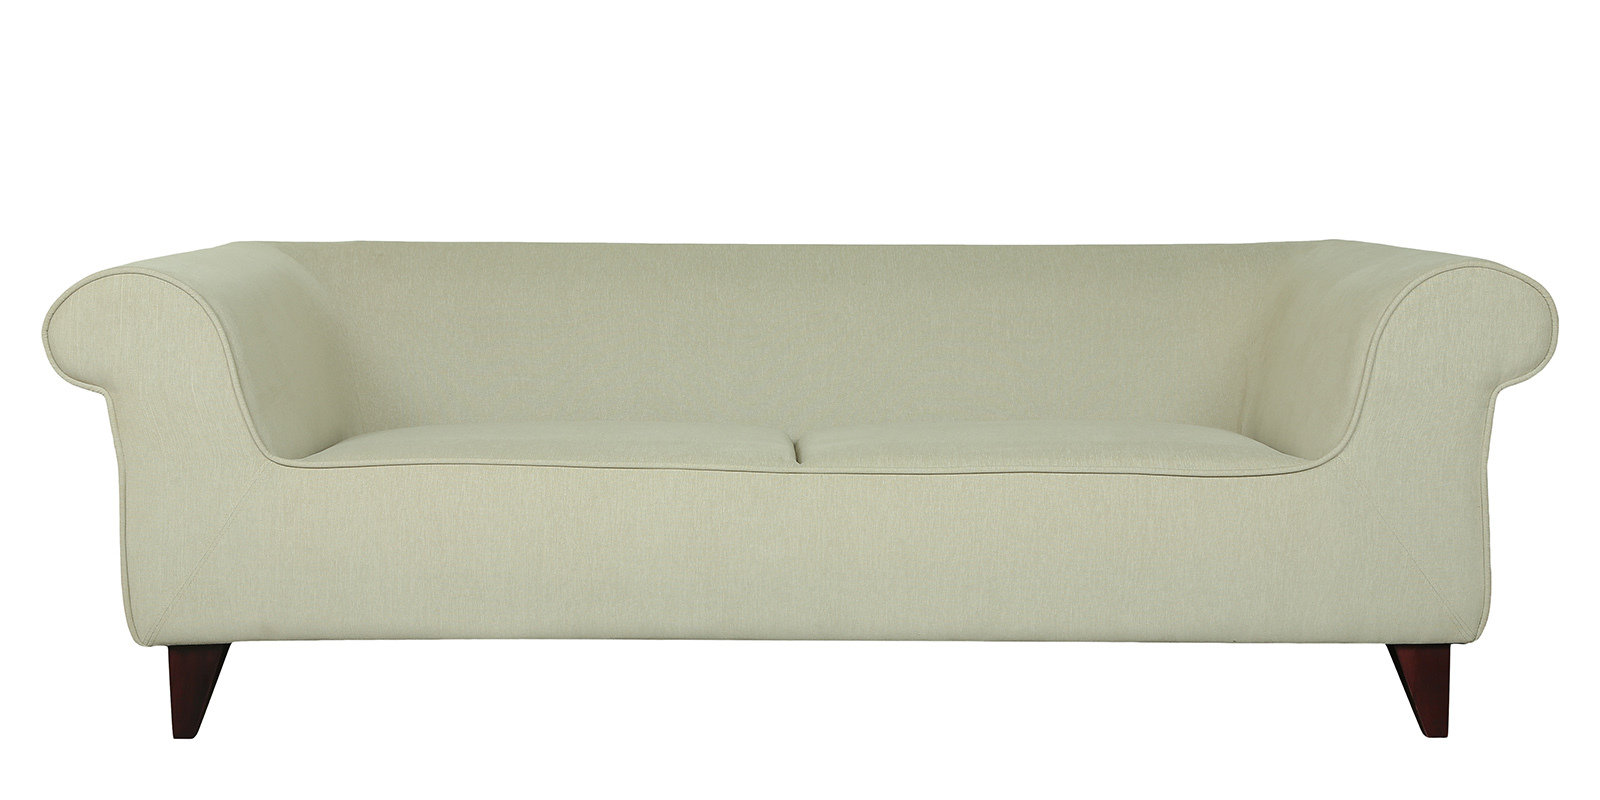Cielo Three Seater Sofa in Beige Colour by CasaCraft: (39, 162, 1585, 730)
